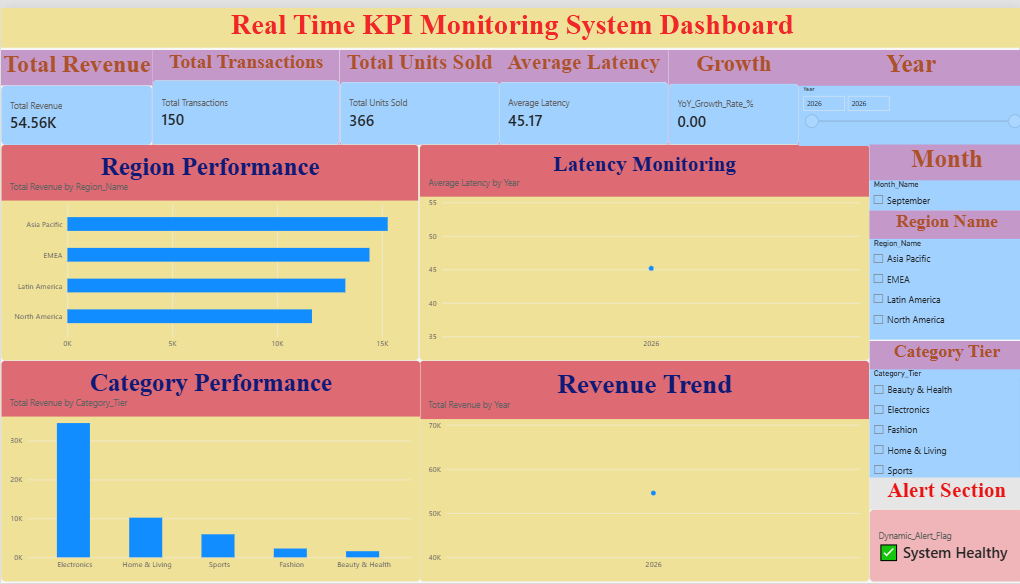

The dashboard page shown, as its layout file describes it:
{"tool":"powerbi","page":{"name":"Executive KPI Dashboard","canvas":[1920,1080],"ordinal":1},"visuals":[{"type":"cardVisual","title":"Total Transactions","fields":{"Data":["Fact_StreamingSales_RealTime_Sample.Total Transactions"]},"box":[284.8,78.8,351.5,178.8],"z":0},{"type":"cardVisual","title":"Total Units Sold","fields":{"Data":["Fact_StreamingSales_RealTime_Sample.Total Units Sold"]},"box":[636.4,78.8,300,178.8],"z":1000},{"type":"cardVisual","title":"Average Latency","fields":{"Data":["Fact_StreamingSales_RealTime_Sample.Average Latency"]},"box":[936.4,78.8,318.2,178.8],"z":2000},{"type":"cardVisual","title":"Growth","fields":{"Data":["Fact_StreamingSales_RealTime_Sample.YoY_Growth_Rate_%"]},"box":[1254.5,78.8,245.5,178.8],"z":3000},{"type":"lineChart","title":"Revenue Trend","fields":{"Category":["Dim_Date.Date.Variation.Date Hierarchy.Year","Dim_Date.Date.Variation.Date Hierarchy.Quarter","Dim_Date.Date.Variation.Date Hierarchy.Month","Dim_Date.Date.Variation.Date Hierarchy.Day"],"Y":["Fact_StreamingSales_RealTime_Sample.Total Revenue"]},"box":[784.8,663.6,845.5,415.2],"z":4000},{"type":"clusteredBarChart","title":"Region Performance","fields":{"Category":["Dim_Region.Region_Name"],"Y":["Fact_StreamingSales_RealTime_Sample.Total Revenue"]},"box":[0,257.6,784.8,406.1],"z":5000},{"type":"columnChart","title":"Category Performance","fields":{"Category":["Dim_Product.Category_Tier"],"Y":["Fact_StreamingSales_RealTime_Sample.Total Revenue"]},"box":[0,663.6,787.9,415.2],"z":6000},{"type":"lineChart","title":"Latency Monitoring","fields":{"Category":["Fact_StreamingSales_RealTime_Sample.Event_Timestamp.Variation.Date Hierarchy.Year","Fact_StreamingSales_RealTime_Sample.Event_Timestamp.Variation.Date Hierarchy.Quarter","Fact_StreamingSales_RealTime_Sample.Event_Timestamp.Variation.Date Hierarchy.Month","Fact_StreamingSales_RealTime_Sample.Event_Timestamp.Variation.Date Hierarchy.Day"],"Y":["Fact_StreamingSales_RealTime_Sample.Average Latency"]},"box":[784.8,257.6,845.5,406.1],"z":7000},{"type":"slicer","title":"Year","fields":{"Values":["Dim_Date.Year"]},"box":[1500,78.8,421.2,178.8],"z":8000},{"type":"slicer","title":"Month","fields":{"Values":["Dim_Date.Month_Name"]},"box":[1630.3,257.6,290.9,124.2],"z":9000},{"type":"slicer","title":"Region Name","fields":{"Values":["Dim_Region.Region_Name"]},"box":[1630.3,381.8,290.9,242.4],"z":10000},{"type":"slicer","title":"Category Tier","fields":{"Values":["Dim_Product.Category_Tier"]},"box":[1630.3,624.2,290.9,257.6],"z":11000},{"type":"cardVisual","title":"Alert Section","fields":{"Data":["Fact_StreamingSales_RealTime_Sample.Dynamic_Alert_Flag"]},"box":[1630.3,881.8,290.9,197],"z":12000},{"type":"cardVisual","title":"Total Revenue","fields":{"Data":["Fact_StreamingSales_RealTime_Sample.Total Revenue"]},"box":[0,78.8,284.8,178.8],"z":13000},{"type":"textbox","title":"Real Time KPI Monitoring System Dashboard","box":[0,0,1921.2,78.8],"z":14000}]}

Visuals, with their boxes in screenshot pixels (x1, y1, x2, y2), scaled from the page's 1920x1080 canvas onto the 1020x584 screenshot:
"Total Transactions" cardVisual: 151:43:338:139
"Total Units Sold" cardVisual: 338:43:497:139
"Average Latency" cardVisual: 497:43:667:139
"Growth" cardVisual: 666:43:797:139
"Revenue Trend" lineChart: 417:359:866:583
"Region Performance" clusteredBarChart: 0:139:417:359
"Category Performance" columnChart: 0:359:419:583
"Latency Monitoring" lineChart: 417:139:866:359
"Year" slicer: 797:43:1019:139
"Month" slicer: 866:139:1019:206
"Region Name" slicer: 866:206:1019:338
"Category Tier" slicer: 866:338:1019:477
"Alert Section" cardVisual: 866:477:1019:583
"Total Revenue" cardVisual: 0:43:151:139
"Real Time KPI Monitoring System Dashboard" textbox: 0:0:1019:43
